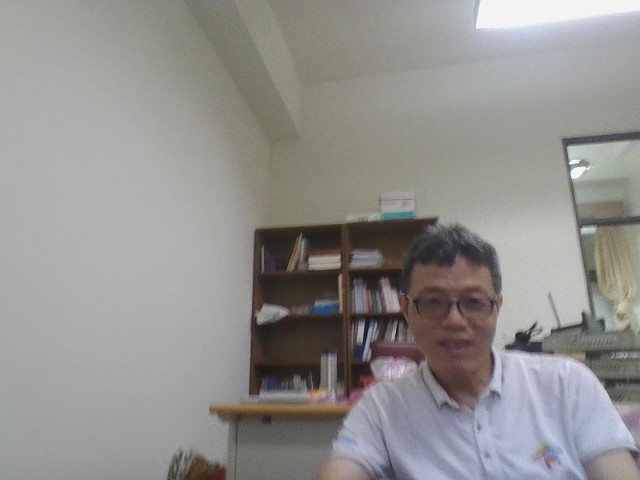No_Helmet: (392, 215, 509, 390)
person: (284, 197, 640, 479)
